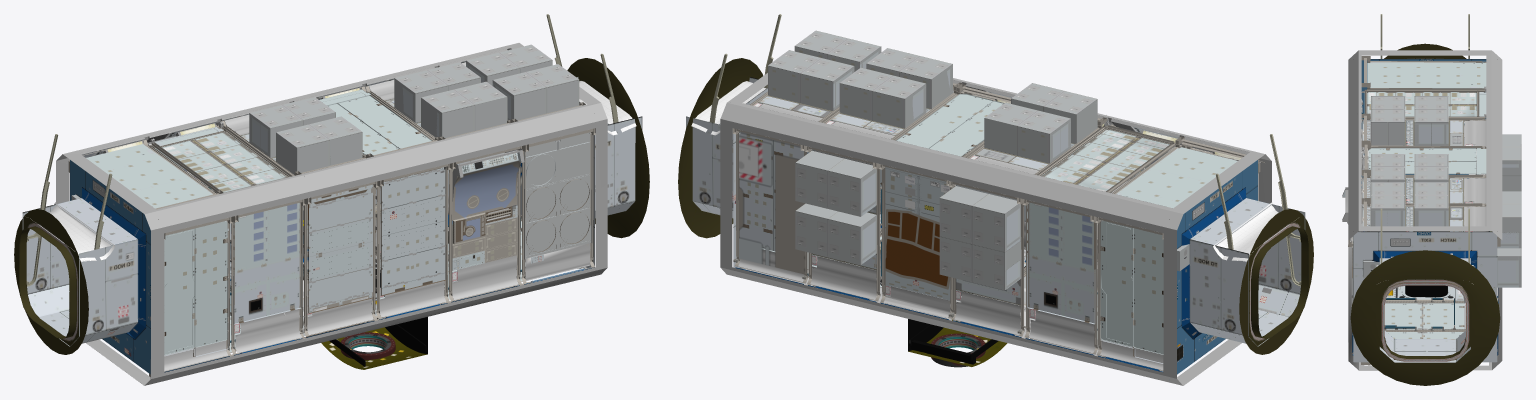
The model's file is us-lab.glb.
3 renders of one model, left to right at view 1: azimuth 30°, elevation 25°; view 2: azimuth 150°, elevation 25°; view 3: azimuth 270°, elevation 25°, orthographic. The views are drawn at different scales.
Parts seen in each view (by area): view 1: US_Lab_Int_MainFrame, US_Lab_Int_AFT_Bulkhead, US_Lab_Int_Racks_003, US_Lab_Int_Racks_005, US_Lab_Int_Racks_006, US_Lab_Int_Racks_002, US_Lab_Int_Racks_004, US_Lab_Int_Racks_001, US_Lab_Int_FWD_Bulkhead, EXPRESS_Racks_ATLAS_2_Base, EXPRESS_Racks_ATLAS_6_Base, EXPRESS_Racks_ATLAS_1_Base (+6 smaller); view 2: US_Lab_Int_MainFrame, US_Lab_Int_AFT_Bulkhead, US_Lab_Int_Racks_003, US_Lab_Int_Racks_005, US_Lab_Int_Racks_006, US_Lab_Int_Racks_001, EXPRESS_Racks_ATLAS_11B_Base, US_Lab_Int_FWD_Bulkhead, EXPRESS_Racks_ATLAS_7_Base, EXPRESS_Racks_ATLAS_1_Base, EXPRESS_Racks_ATLAS_2_Base, EXPRESS_Racks_ATLAS_6_Base (+12 smaller); view 3: US_Lab_Int_FWD_Bulkhead, US_Lab_Int_MainFrame, EXPRESS_Racks_ATLAS_2_Base, US_Lab_Int_Racks_006, US_Lab_Int_Racks_002, US_Lab_Int_Racks_003, EXPRESS_Racks_ATLAS_6_Base, EXPRESS_Racks_ATLAS_1_Base, US_Lab_Int_Racks_005, US_Lab_Int_Racks_001, EXPRESS_Racks_ATLAS_7_Base, US_Lab_Int_Racks_004 (+18 smaller).
Part boxes in pixels (x1=…): US_Lab_Int_MainFrame: x1=56, y1=43, x2=607, y2=385; US_Lab_Int_AFT_Bulkhead: x1=14, y1=160, x2=158, y2=374; US_Lab_Int_Racks_003: x1=303, y1=86, x2=451, y2=369; US_Lab_Int_Racks_005: x1=143, y1=121, x2=306, y2=357; US_Lab_Int_Racks_006: x1=68, y1=140, x2=233, y2=376; US_Lab_Int_Racks_002: x1=363, y1=80, x2=524, y2=303; US_Lab_Int_Racks_004: x1=216, y1=114, x2=379, y2=339; US_Lab_Int_Racks_001: x1=448, y1=62, x2=595, y2=286; US_Lab_Int_FWD_Bulkhead: x1=506, y1=49, x2=649, y2=268; EXPRESS_Racks_ATLAS_2_Base: x1=466, y1=44, x2=579, y2=120; EXPRESS_Racks_ATLAS_6_Base: x1=241, y1=97, x2=362, y2=172; EXPRESS_Racks_ATLAS_1_Base: x1=385, y1=62, x2=507, y2=138; US_Lab_Int_MainFrame: x1=720, y1=73, x2=1271, y2=385; US_Lab_Int_AFT_Bulkhead: x1=1169, y1=160, x2=1313, y2=374; US_Lab_Int_Racks_003: x1=878, y1=84, x2=1025, y2=367; US_Lab_Int_Racks_005: x1=1022, y1=125, x2=1186, y2=356; US_Lab_Int_Racks_006: x1=1094, y1=136, x2=1260, y2=371; US_Lab_Int_Racks_001: x1=732, y1=91, x2=885, y2=285; EXPRESS_Racks_ATLAS_11B_Base: x1=939, y1=185, x2=1021, y2=305; US_Lab_Int_FWD_Bulkhead: x1=678, y1=58, x2=818, y2=268; EXPRESS_Racks_ATLAS_7_Base: x1=795, y1=149, x2=876, y2=270; EXPRESS_Racks_ATLAS_1_Base: x1=831, y1=48, x2=953, y2=135; EXPRESS_Racks_ATLAS_2_Base: x1=758, y1=30, x2=881, y2=117; EXPRESS_Racks_ATLAS_6_Base: x1=975, y1=83, x2=1102, y2=170; US_Lab_Int_FWD_Bulkhead: x1=1350, y1=231, x2=1500, y2=385; US_Lab_Int_MainFrame: x1=1348, y1=50, x2=1502, y2=370; EXPRESS_Racks_ATLAS_2_Base: x1=1362, y1=182, x2=1463, y2=231; US_Lab_Int_Racks_006: x1=1361, y1=56, x2=1486, y2=206; US_Lab_Int_Racks_002: x1=1342, y1=171, x2=1497, y2=330; US_Lab_Int_Racks_003: x1=1351, y1=142, x2=1497, y2=301; EXPRESS_Racks_ATLAS_6_Base: x1=1362, y1=96, x2=1463, y2=145; EXPRESS_Racks_ATLAS_1_Base: x1=1362, y1=154, x2=1463, y2=203; US_Lab_Int_Racks_005: x1=1361, y1=86, x2=1486, y2=231; US_Lab_Int_Racks_001: x1=1348, y1=199, x2=1500, y2=365; EXPRESS_Racks_ATLAS_7_Base: x1=1497, y1=232, x2=1521, y2=287; US_Lab_Int_Racks_004: x1=1351, y1=113, x2=1486, y2=266.
Size of the model in its own units: 8.38 by 3.8 by 2.82.
Materials: 13 (12 with a texture image).
